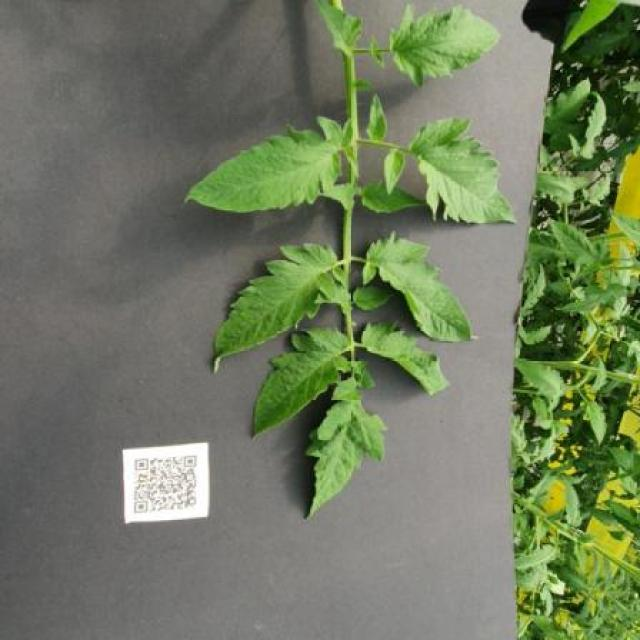Healthy: (213, 243, 347, 374), (185, 115, 359, 214), (362, 231, 479, 342), (406, 117, 516, 224), (250, 327, 350, 440), (304, 401, 390, 519), (388, 3, 503, 88), (362, 319, 452, 394)
